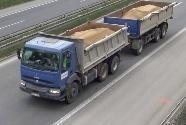truck: (17, 0, 173, 104)
